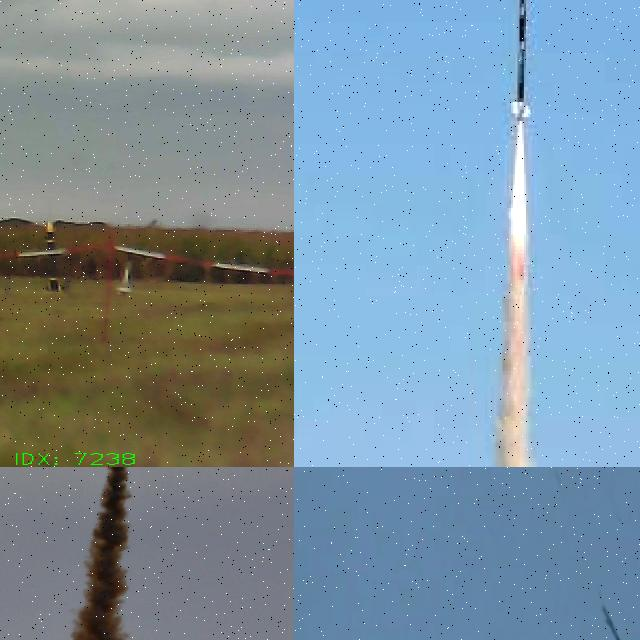Rocket: (508, 0, 532, 126), (43, 220, 70, 292), (602, 606, 630, 640), (115, 263, 138, 295)
